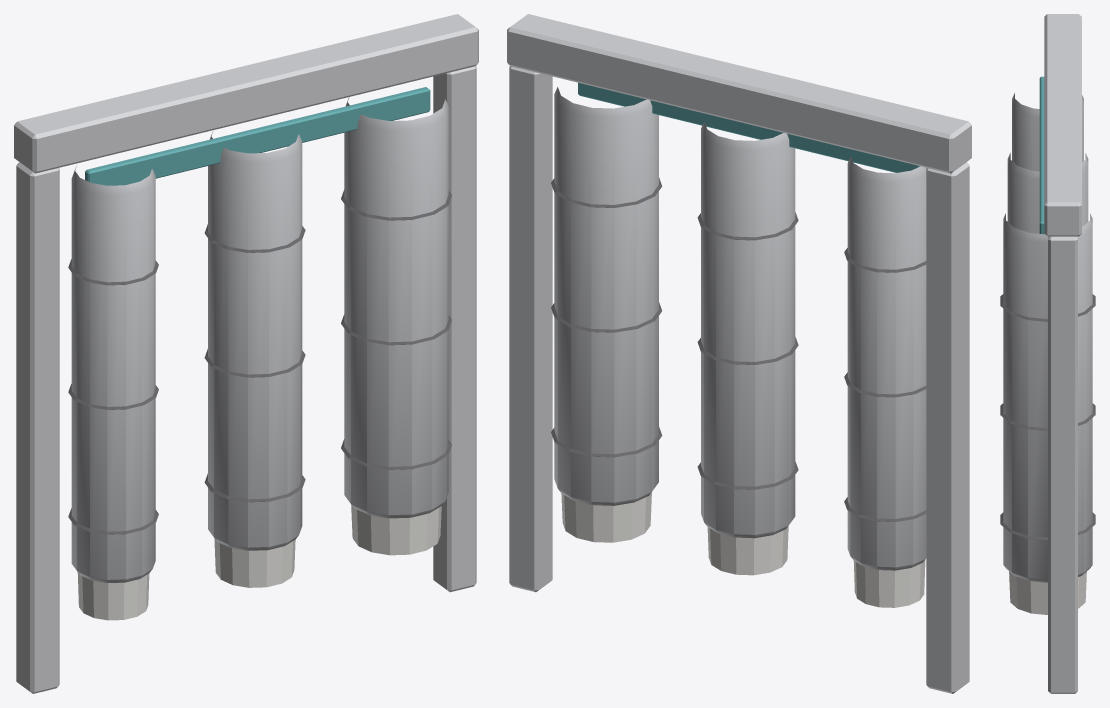
Rendered from fast-food-and-drive-thru-cup-dispenser-rail-b79a7473__16156.glb.
3 views of the same model, side by side, from view 1: azimuth 30°, elevation 25°; view 2: azimuth 150°, elevation 25°; view 3: azimuth 270°, elevation 25° (orthographic). The views are drawn at different scales.
Parts seen in each view (by area): view 1: cup-dispenser-rail; view 2: cup-dispenser-rail; view 3: cup-dispenser-rail.
Boxes of the visible parts, bbox=[...] form: cup-dispenser-rail: bbox=[14, 14, 478, 693]; cup-dispenser-rail: bbox=[507, 14, 971, 693]; cup-dispenser-rail: bbox=[1000, 14, 1095, 693].
Bounding box in the file's own units: 0.6 × 0.72 × 0.1268.
